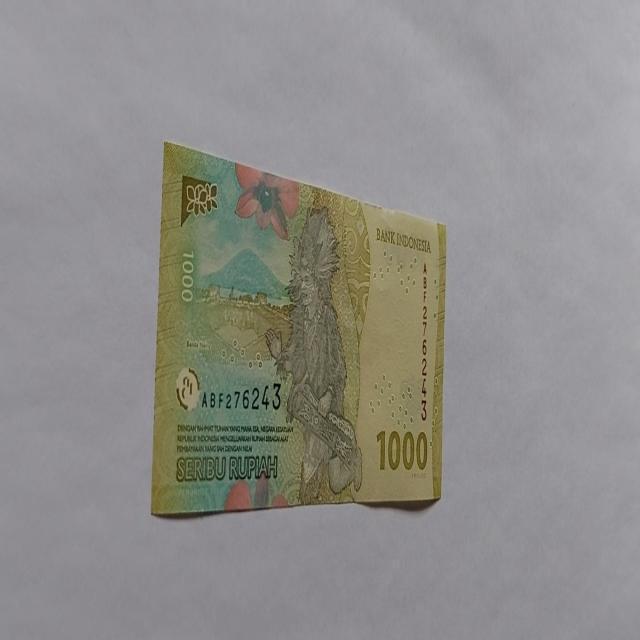seribu rupiah kertas: (150, 138, 447, 518)
